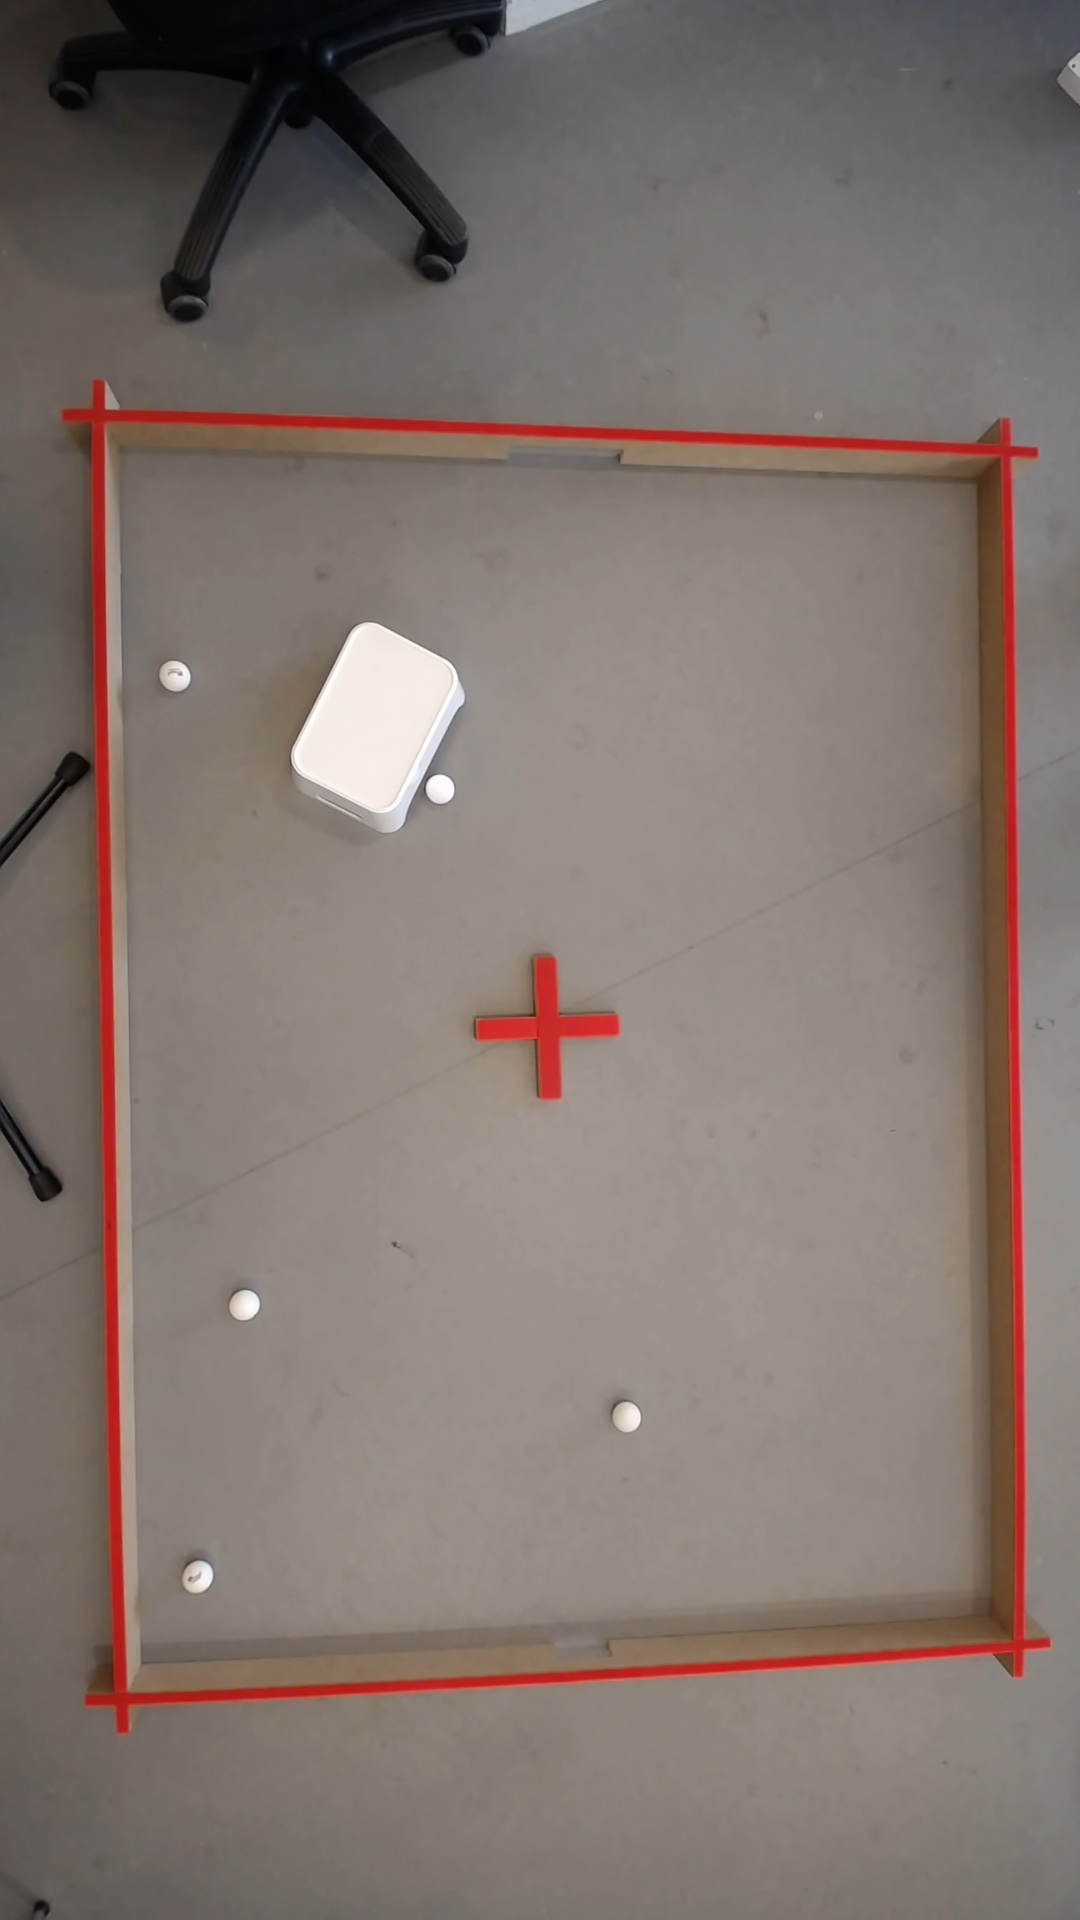balls: (281, 613, 477, 828), (419, 769, 459, 807), (157, 655, 194, 694), (228, 1286, 264, 1324), (183, 1557, 216, 1596)
car: (612, 1400, 645, 1435)
